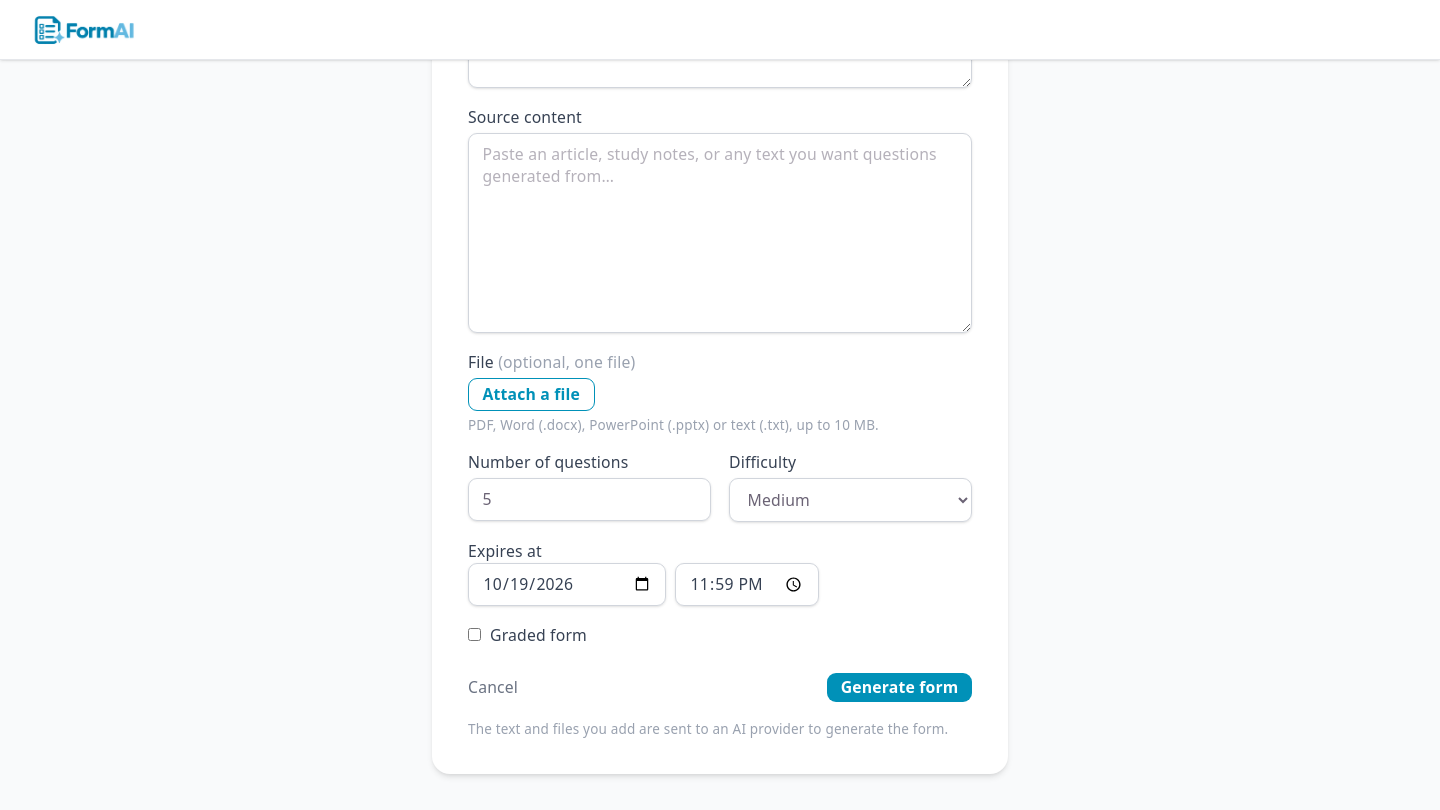
it: CreateFormPage › shows an unticked score checkbox once Graded form is ticked
(page scrolled)
Click the checkbox labelled "Graded form" at coordinates (474, 635), box [468,628,481,641]
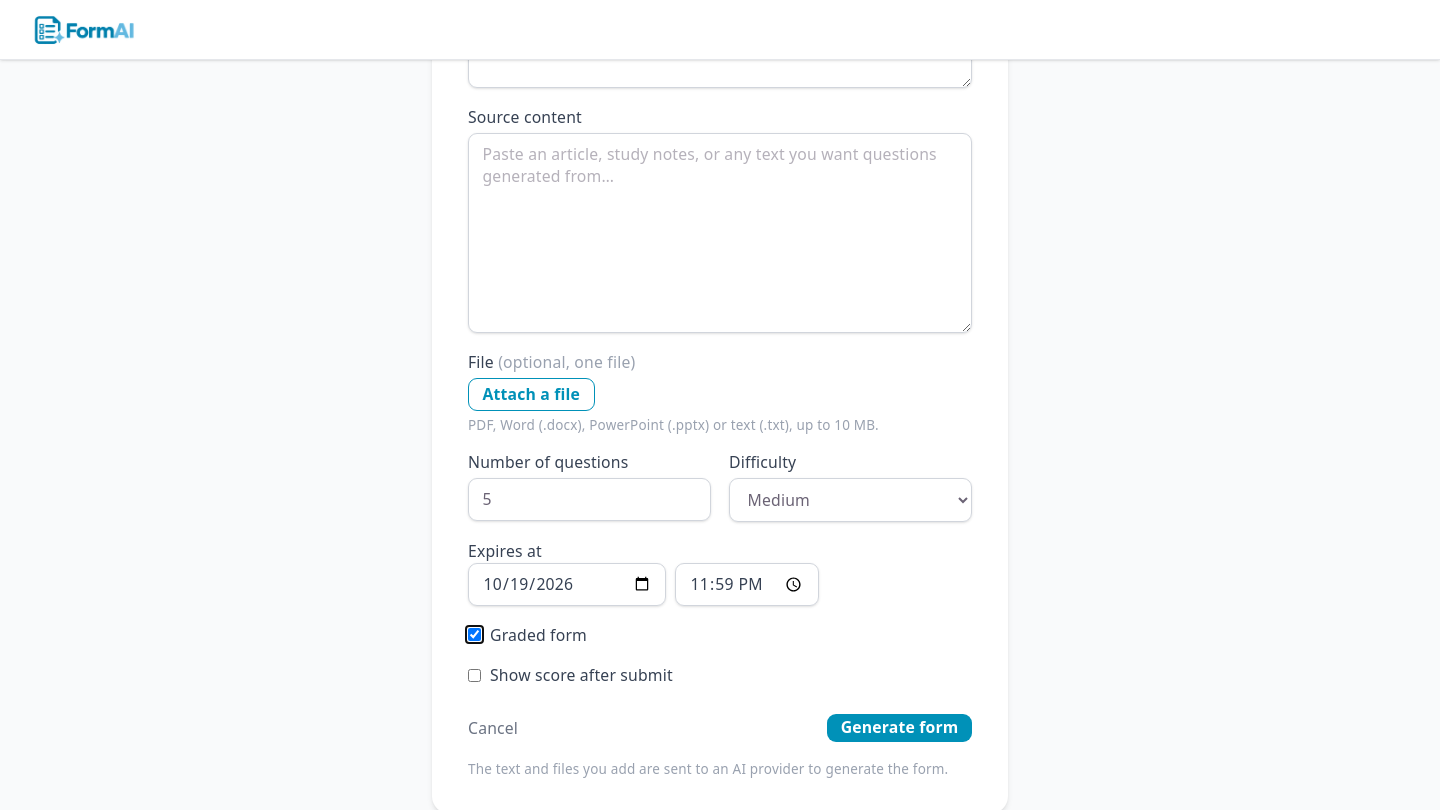
expect the checkbox labelled "Show score after submit" is not checked: met, box [468,669,481,682]
